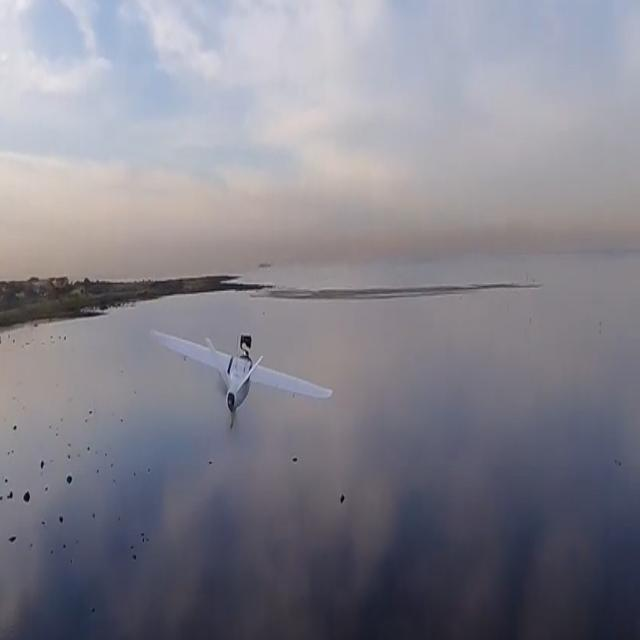iha: (149, 360, 334, 404)
